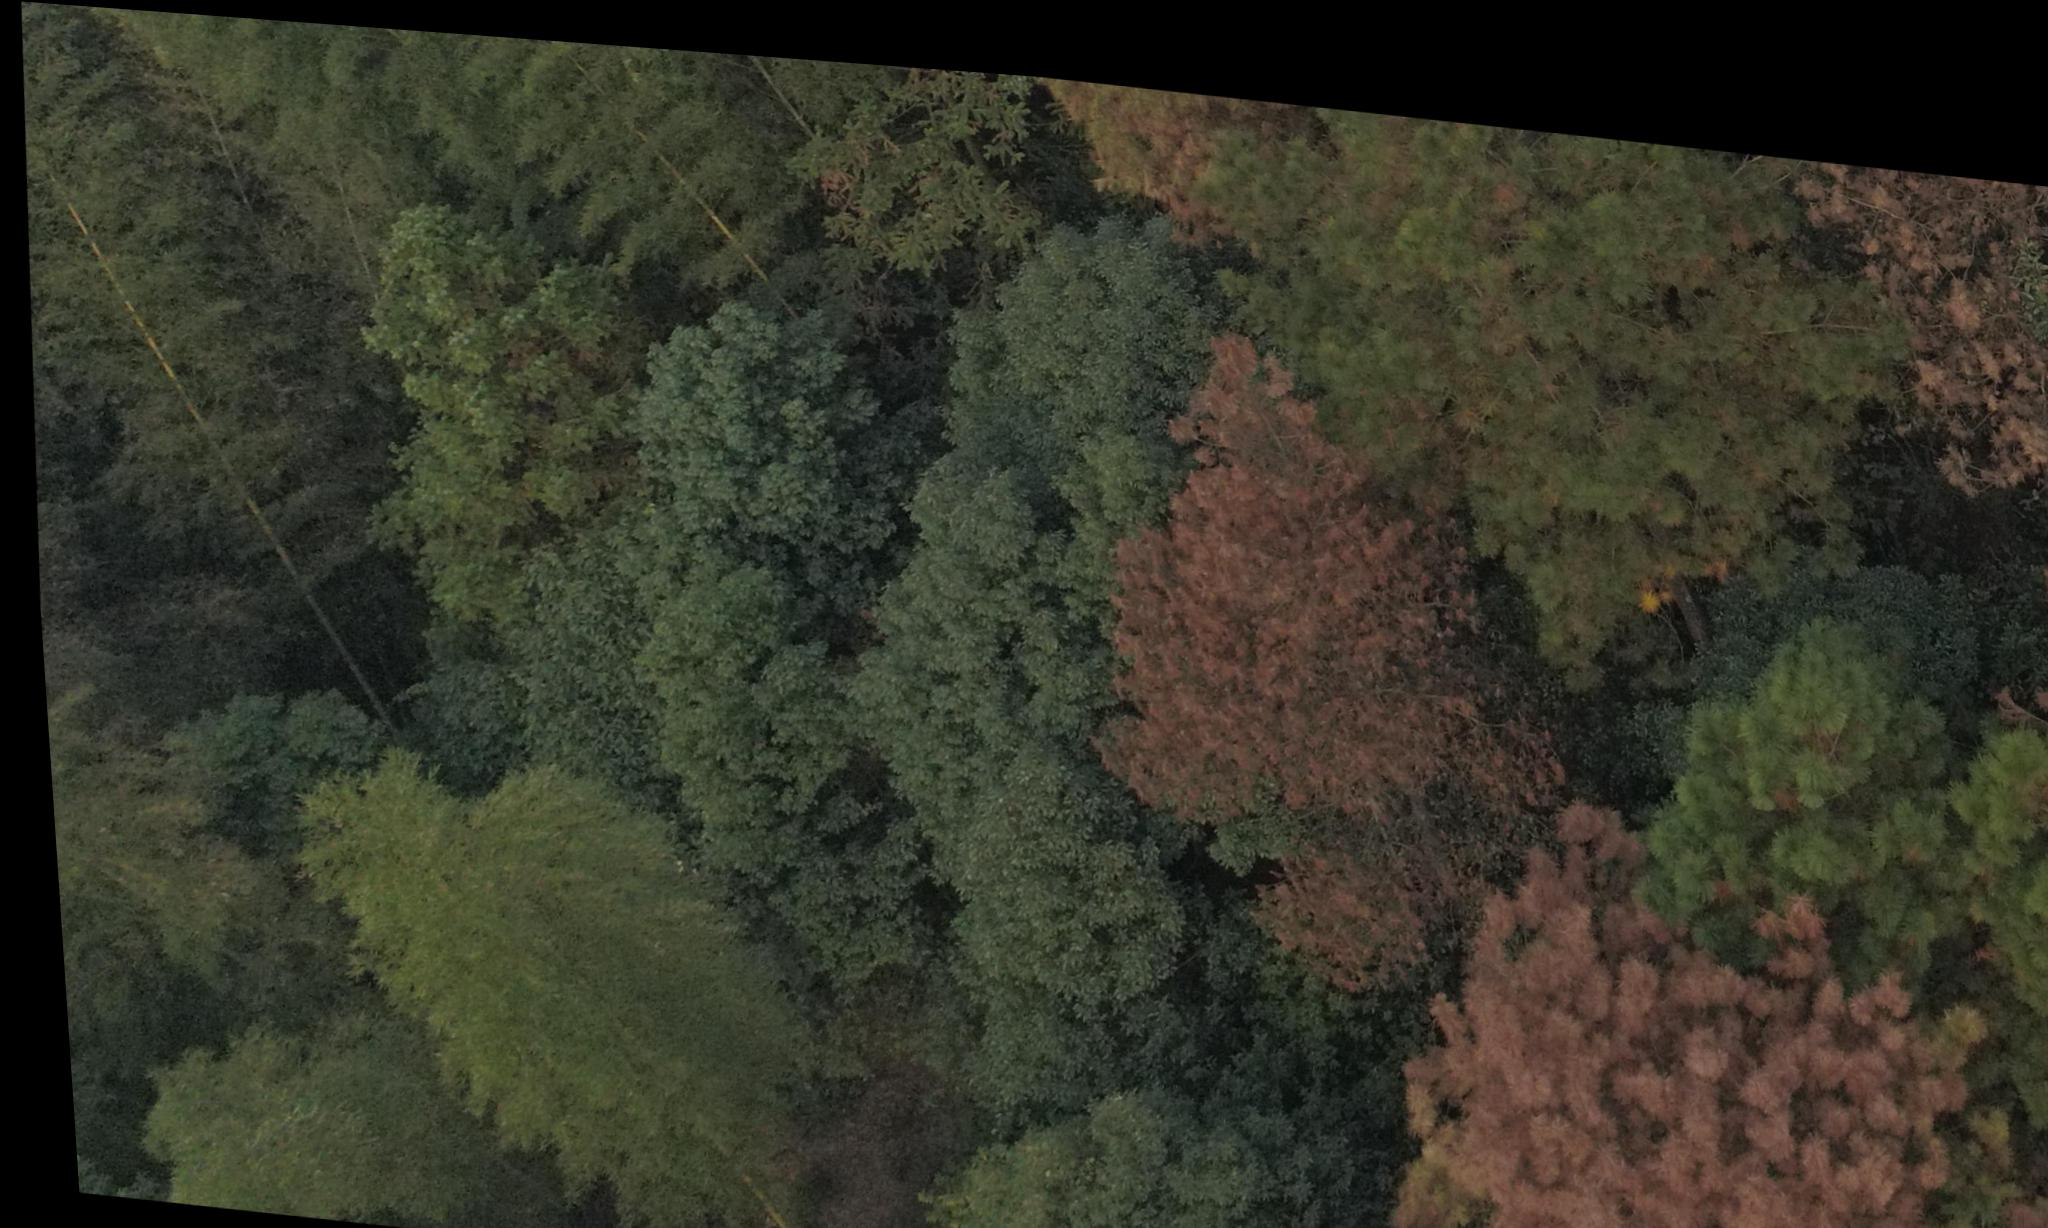heavy: (1273, 788, 2048, 1228), (1004, 352, 1535, 965), (1792, 132, 2048, 459)
light: (1285, 101, 1884, 665), (962, 60, 1343, 268)
